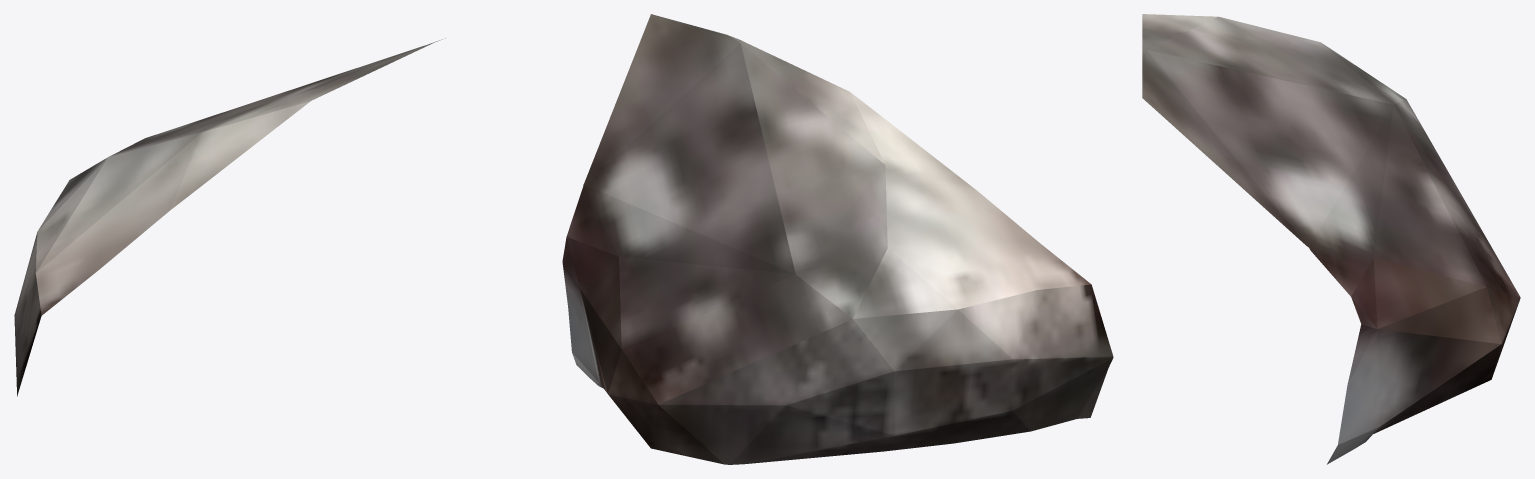
3 views of the same model, side by side, from view 1: azimuth 30°, elevation 25°; view 2: azimuth 150°, elevation 25°; view 3: azimuth 270°, elevation 25° (orthographic). The views are drawn at different scales.
Bounding box in the file's own units: 0.234 × 0.1435 × 0.1341.
Materials: 1 (1 with a texture image).
